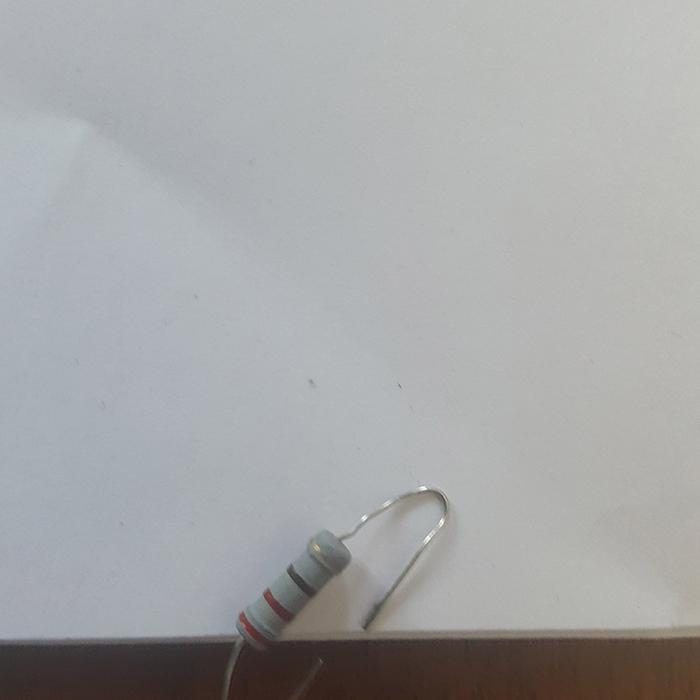resistor: (236, 526, 351, 652)
